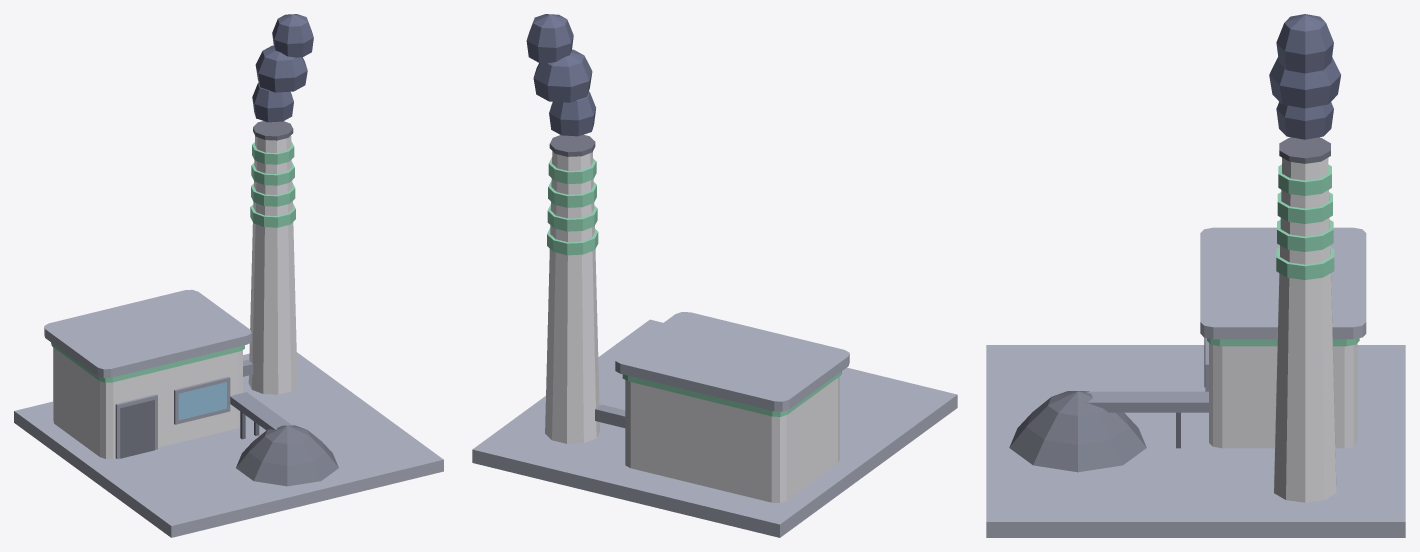
File: coal-1x1-t4-tone-a.glb
3 renders of one model, left to right at view 1: azimuth 30°, elevation 25°; view 2: azimuth 150°, elevation 25°; view 3: azimuth 270°, elevation 25°, orthographic. The views are drawn at different scales.
Visible parts, largest first — view 1: coal-1x1-t4-tone-a; view 2: coal-1x1-t4-tone-a; view 3: coal-1x1-t4-tone-a.
Boxes of the visible parts, <box> form: coal-1x1-t4-tone-a: <box>14,14,443,537</box>; coal-1x1-t4-tone-a: <box>472,14,957,537</box>; coal-1x1-t4-tone-a: <box>986,14,1405,537</box>.
Size of the model in its own units: 0.96 by 1.27 by 0.96.
Materials: 1 (1 with a texture image).
